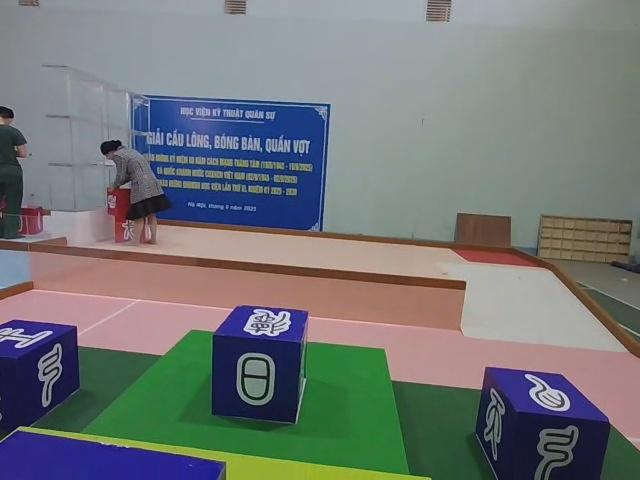R2 Fake Blue: (475, 369, 612, 480), (212, 307, 313, 428), (0, 321, 79, 434)
